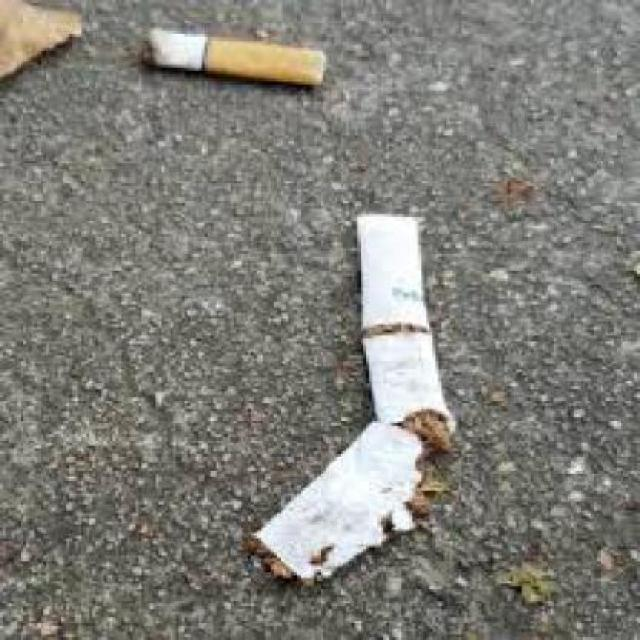cigarette: (303, 194, 482, 466), (259, 425, 444, 590), (135, 17, 363, 98)
